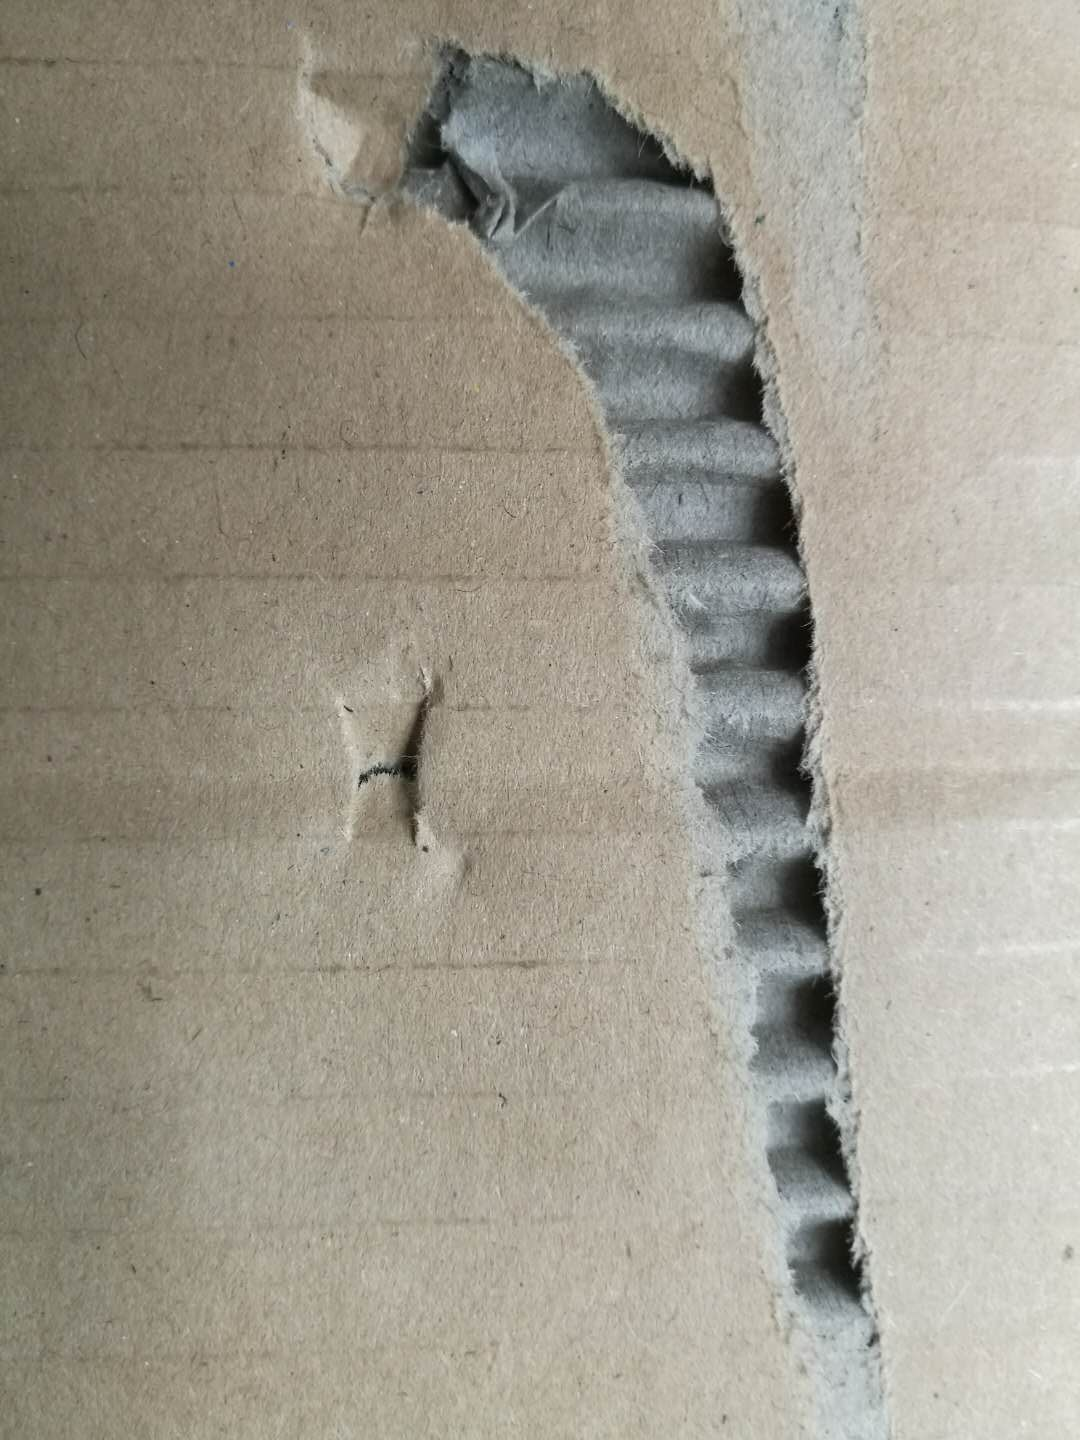defect: (265, 10, 1013, 1440), (700, 1, 939, 425), (295, 641, 508, 922)
